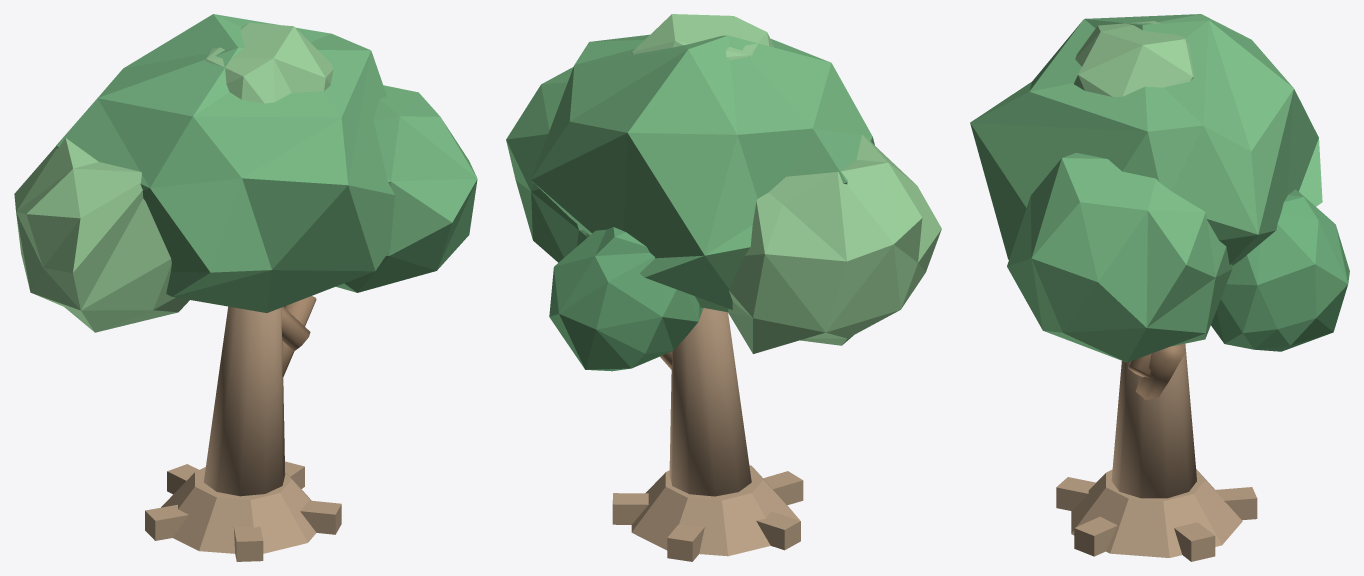
The model's file is Tree_A_01_LOD2.glb.
The picture shows the model from 3 angles, left to right: view 1: azimuth 30°, elevation 25°; view 2: azimuth 150°, elevation 25°; view 3: azimuth 270°, elevation 25°; orthographic projection. The views are drawn at different scales.
Visible parts, largest first — view 1: BW_TreeA_V01_Canopy_01_LOD2, BW_TreeA_V01_Canopy_02_LOD2, BW_TreeA_V01_Canopy_03_LOD2, BW_TreeA_V01_Trunk_LOD2, BW_TreeA_V01_Roots_LOD2, BW_TreeA_V01_Canopy_04_LOD2, BW_TreeA_V01_Branches_LOD2; view 2: BW_TreeA_V01_Canopy_01_LOD2, BW_TreeA_V01_Canopy_02_LOD2, BW_TreeA_V01_Canopy_05_LOD2, BW_TreeA_V01_Trunk_LOD2, BW_TreeA_V01_Roots_LOD2, BW_TreeA_V01_Canopy_03_LOD2, BW_TreeA_V01_Canopy_04_LOD2; view 3: BW_TreeA_V01_Canopy_01_LOD2, BW_TreeA_V01_Canopy_03_LOD2, BW_TreeA_V01_Canopy_05_LOD2, BW_TreeA_V01_Roots_LOD2, BW_TreeA_V01_Trunk_LOD2, BW_TreeA_V01_Canopy_04_LOD2, BW_TreeA_V01_Branches_LOD2.
Boxes of the visible parts, x1,y1,x2,y2 form: BW_TreeA_V01_Canopy_01_LOD2: [56, 14, 394, 312]; BW_TreeA_V01_Canopy_02_LOD2: [14, 138, 189, 332]; BW_TreeA_V01_Canopy_03_LOD2: [336, 85, 477, 292]; BW_TreeA_V01_Trunk_LOD2: [203, 306, 285, 496]; BW_TreeA_V01_Roots_LOD2: [145, 461, 341, 561]; BW_TreeA_V01_Canopy_04_LOD2: [205, 22, 333, 103]; BW_TreeA_V01_Branches_LOD2: [281, 296, 316, 377]; BW_TreeA_V01_Canopy_01_LOD2: [531, 34, 874, 312]; BW_TreeA_V01_Canopy_02_LOD2: [728, 134, 941, 353]; BW_TreeA_V01_Canopy_05_LOD2: [549, 227, 703, 371]; BW_TreeA_V01_Trunk_LOD2: [669, 308, 751, 496]; BW_TreeA_V01_Roots_LOD2: [612, 465, 803, 561]; BW_TreeA_V01_Canopy_03_LOD2: [506, 67, 586, 262]; BW_TreeA_V01_Canopy_04_LOD2: [631, 14, 774, 59]; BW_TreeA_V01_Canopy_01_LOD2: [970, 14, 1322, 282]; BW_TreeA_V01_Canopy_03_LOD2: [1007, 152, 1232, 362]; BW_TreeA_V01_Canopy_05_LOD2: [1211, 189, 1349, 351]; BW_TreeA_V01_Roots_LOD2: [1056, 469, 1257, 561]; BW_TreeA_V01_Trunk_LOD2: [1111, 343, 1196, 498]; BW_TreeA_V01_Canopy_04_LOD2: [1074, 21, 1194, 96]; BW_TreeA_V01_Branches_LOD2: [1128, 344, 1185, 400].
Bounding box in the file's own units: 4.28 × 4.83 × 3.33.
